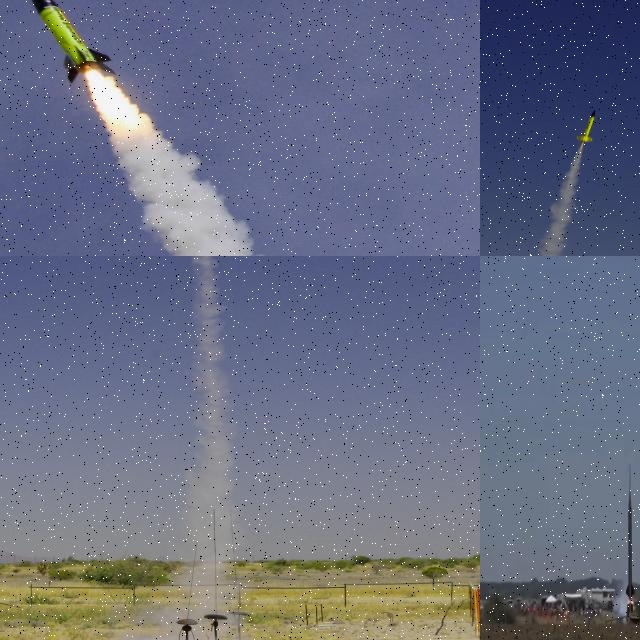Rocket: (24, 0, 117, 84), (626, 488, 636, 602), (577, 108, 596, 143)
